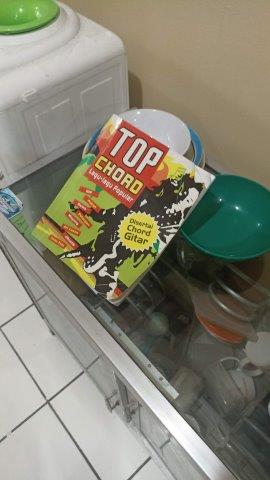kertas: (32, 116, 217, 309)
